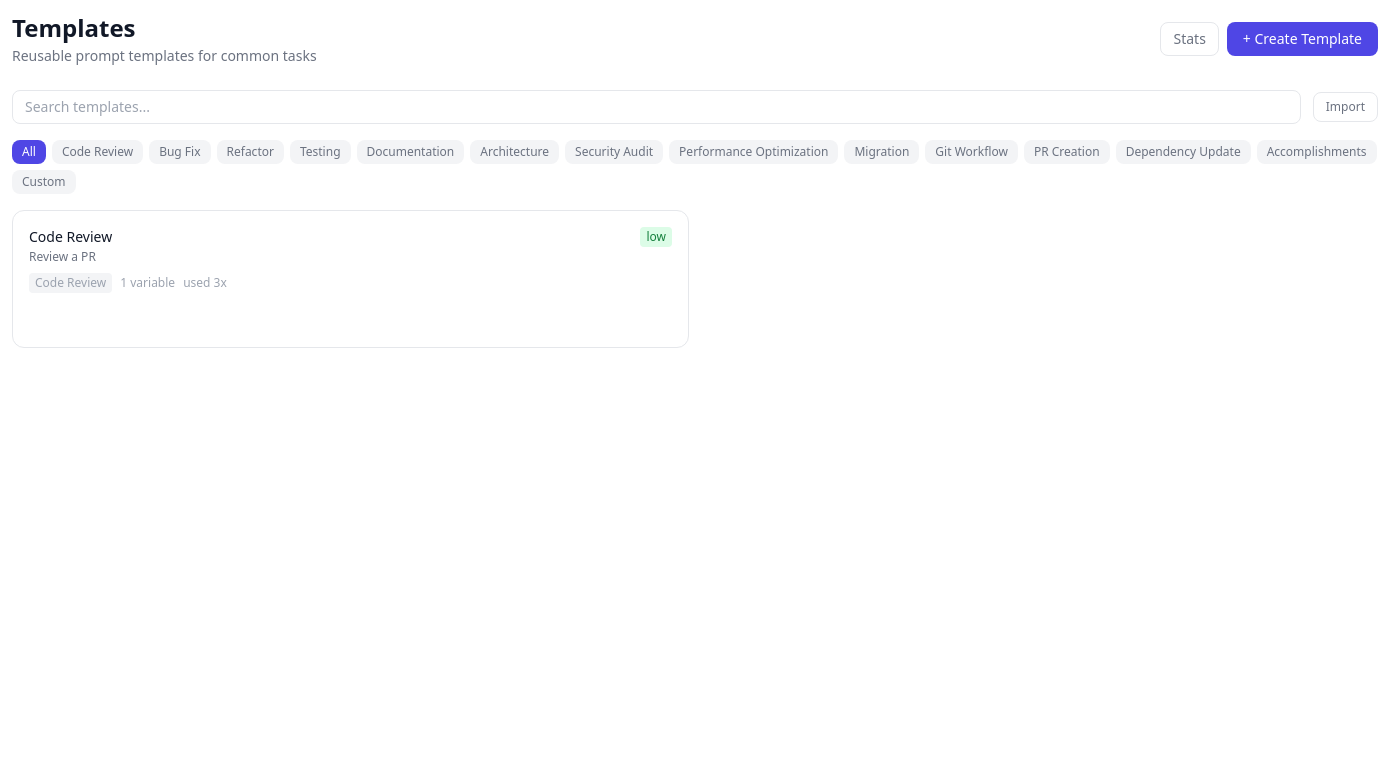
Test case: Templates › returns to library when Cancel is clicked in create view
expect the button "Code Review" is shown: met, box [52,140,143,164]
Click the button "+ Create Template": click(1302, 39) [1227,22,1378,56]
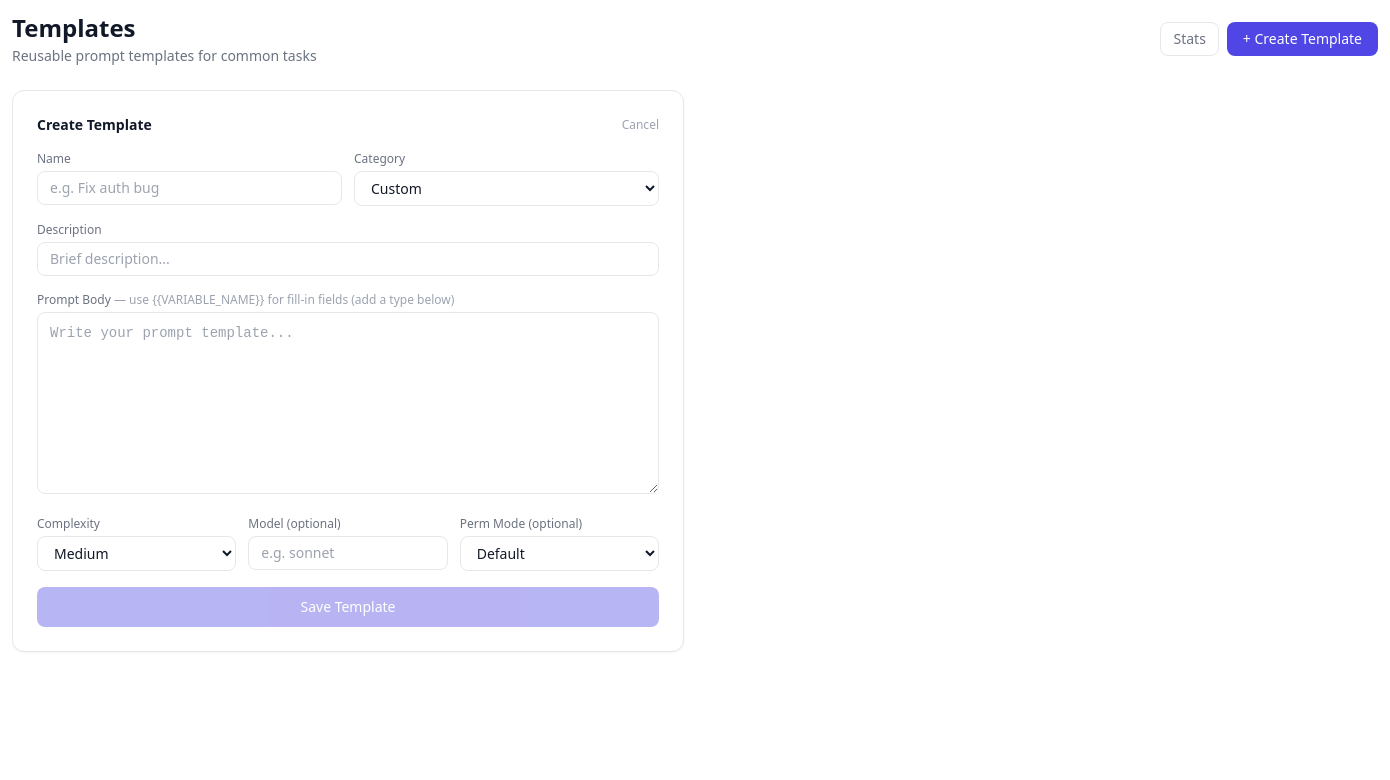
expect the text "Description" is shown: met, box [37,221,102,238]
Click the button "Cancel": click(640, 125) [622,117,659,133]
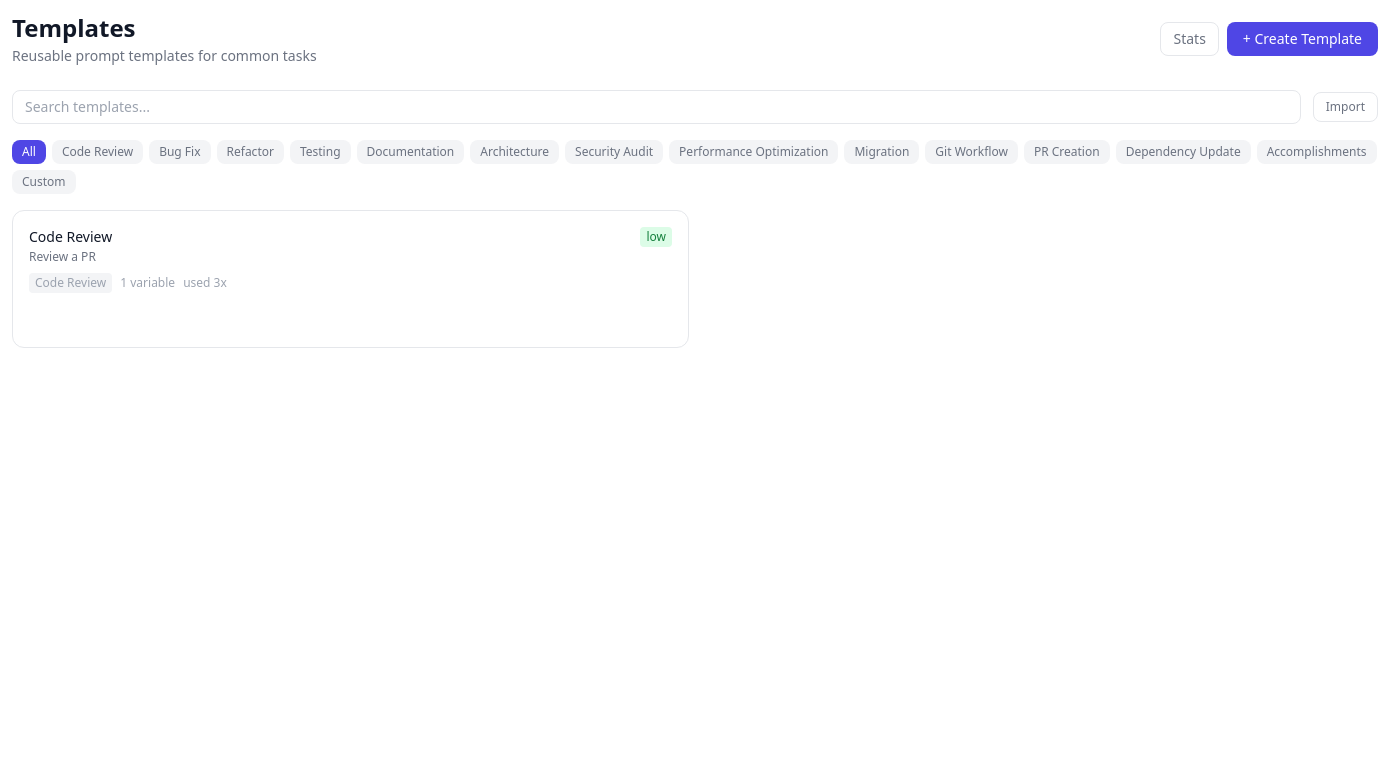
expect the button "Code Review" is shown: met, box [52,140,143,164]
